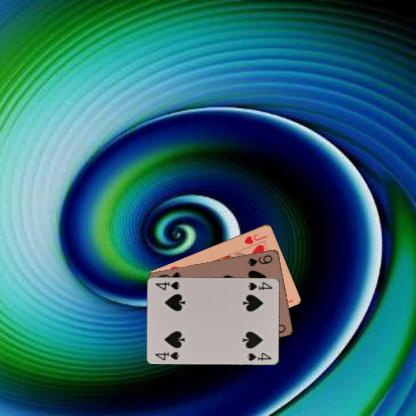4s: (245, 279, 274, 292), (152, 349, 181, 361)
9s: (245, 252, 274, 267)
Jh: (242, 231, 269, 246)
